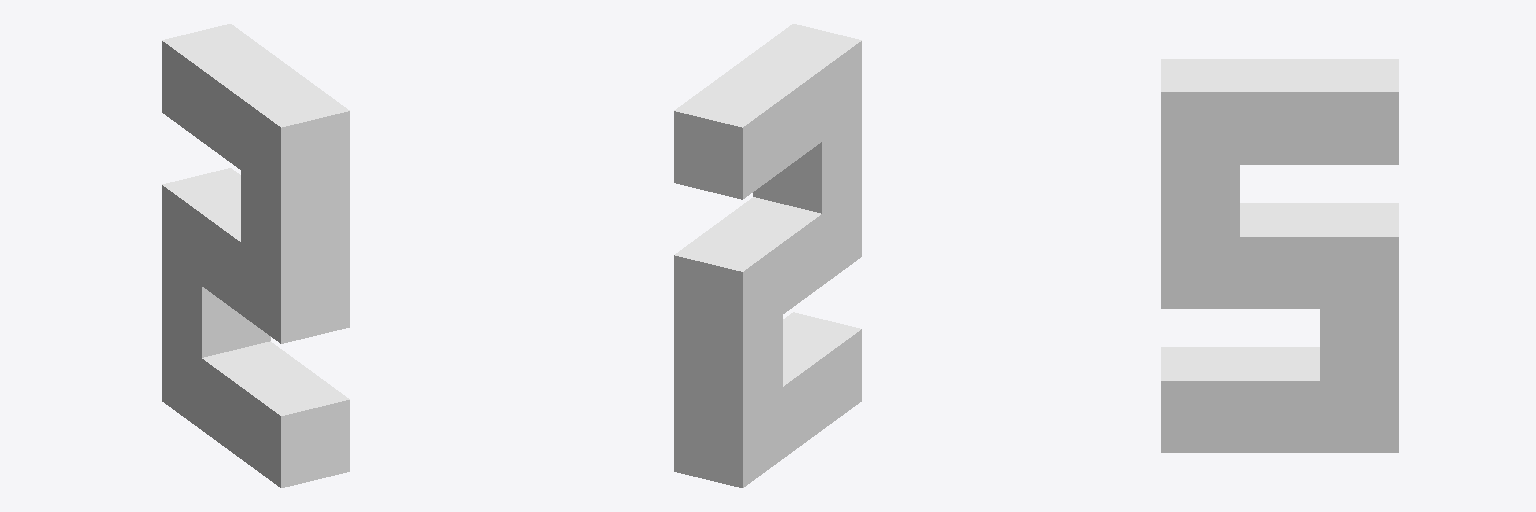
Rendered from nowruz-display-5.obj.
The picture shows the model from 3 angles: view 1: azimuth 30°, elevation 25°; view 2: azimuth 150°, elevation 25°; view 3: azimuth 270°, elevation 25°; orthographic projection.
Parts seen in each view (by area): view 1: object 1; view 2: object 1; view 3: object 1.
Part boxes in pixels (x1,y1,x2,y2): object 1: (162, 24, 349, 487); object 1: (674, 24, 861, 487); object 1: (1161, 59, 1398, 452).
Bounding box in the file's own units: 0.1 × 0.5 × 0.3.